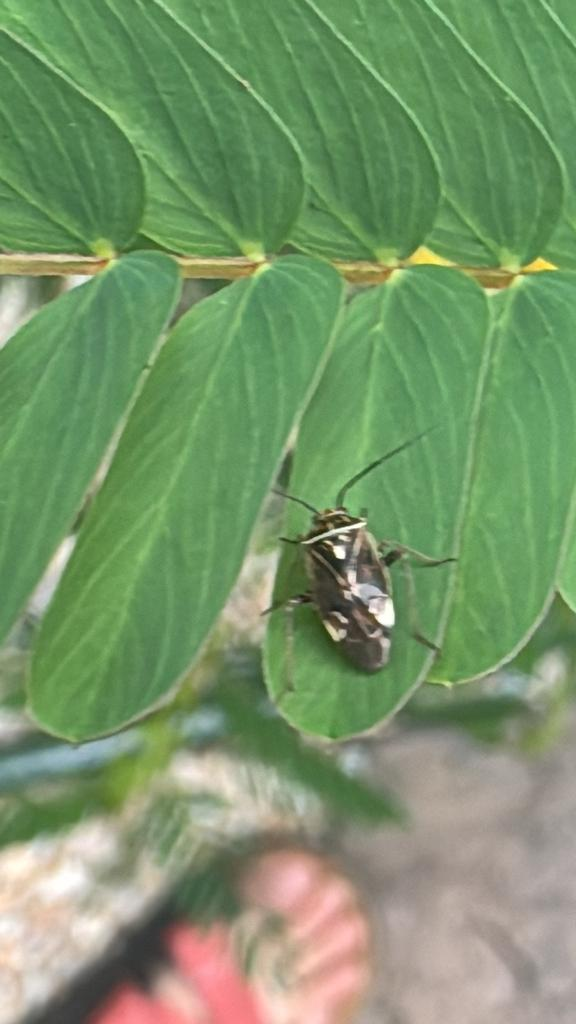plant_bugs: (209, 407, 501, 735)
